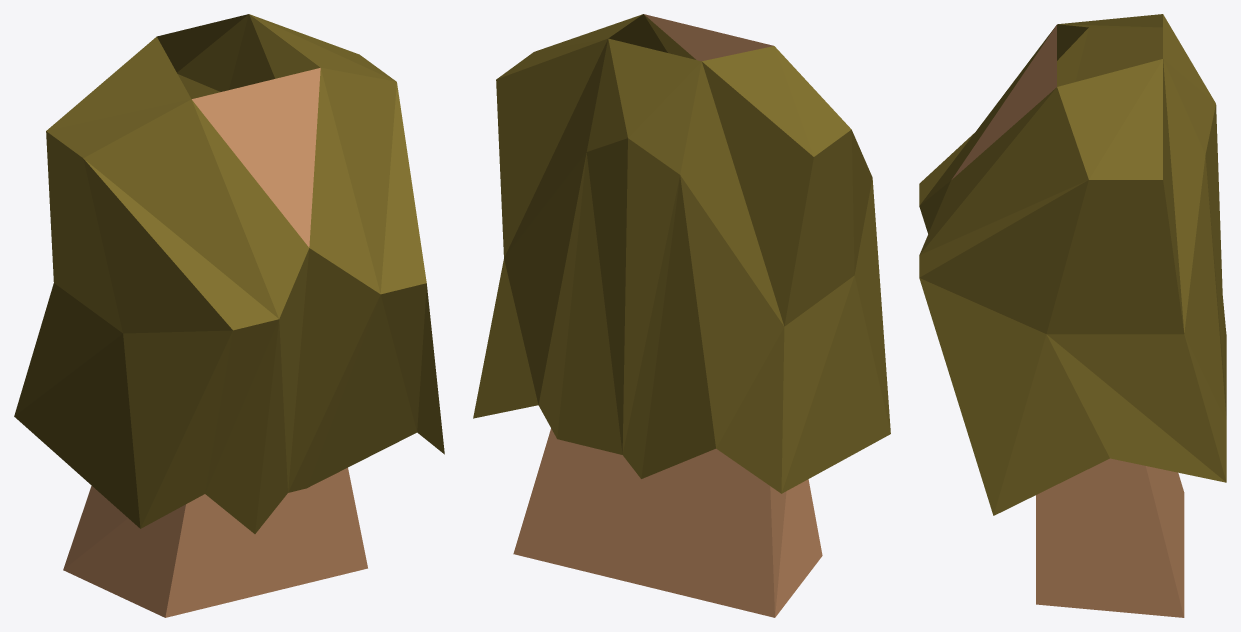
The model's file is model_474_idk.obj.
3 renders of one model, left to right at view 1: azimuth 30°, elevation 25°; view 2: azimuth 150°, elevation 25°; view 3: azimuth 270°, elevation 25°, orthographic.
Visible parts, largest first — view 1: 474; view 2: 474; view 3: 474.
Part boxes in pixels (left/top/right/bottom): 474: left=14, top=14, right=444, bottom=617; 474: left=473, top=14, right=890, bottom=617; 474: left=919, top=14, right=1226, bottom=617.
Bounding box in the file's own units: 34 × 54 × 29.
